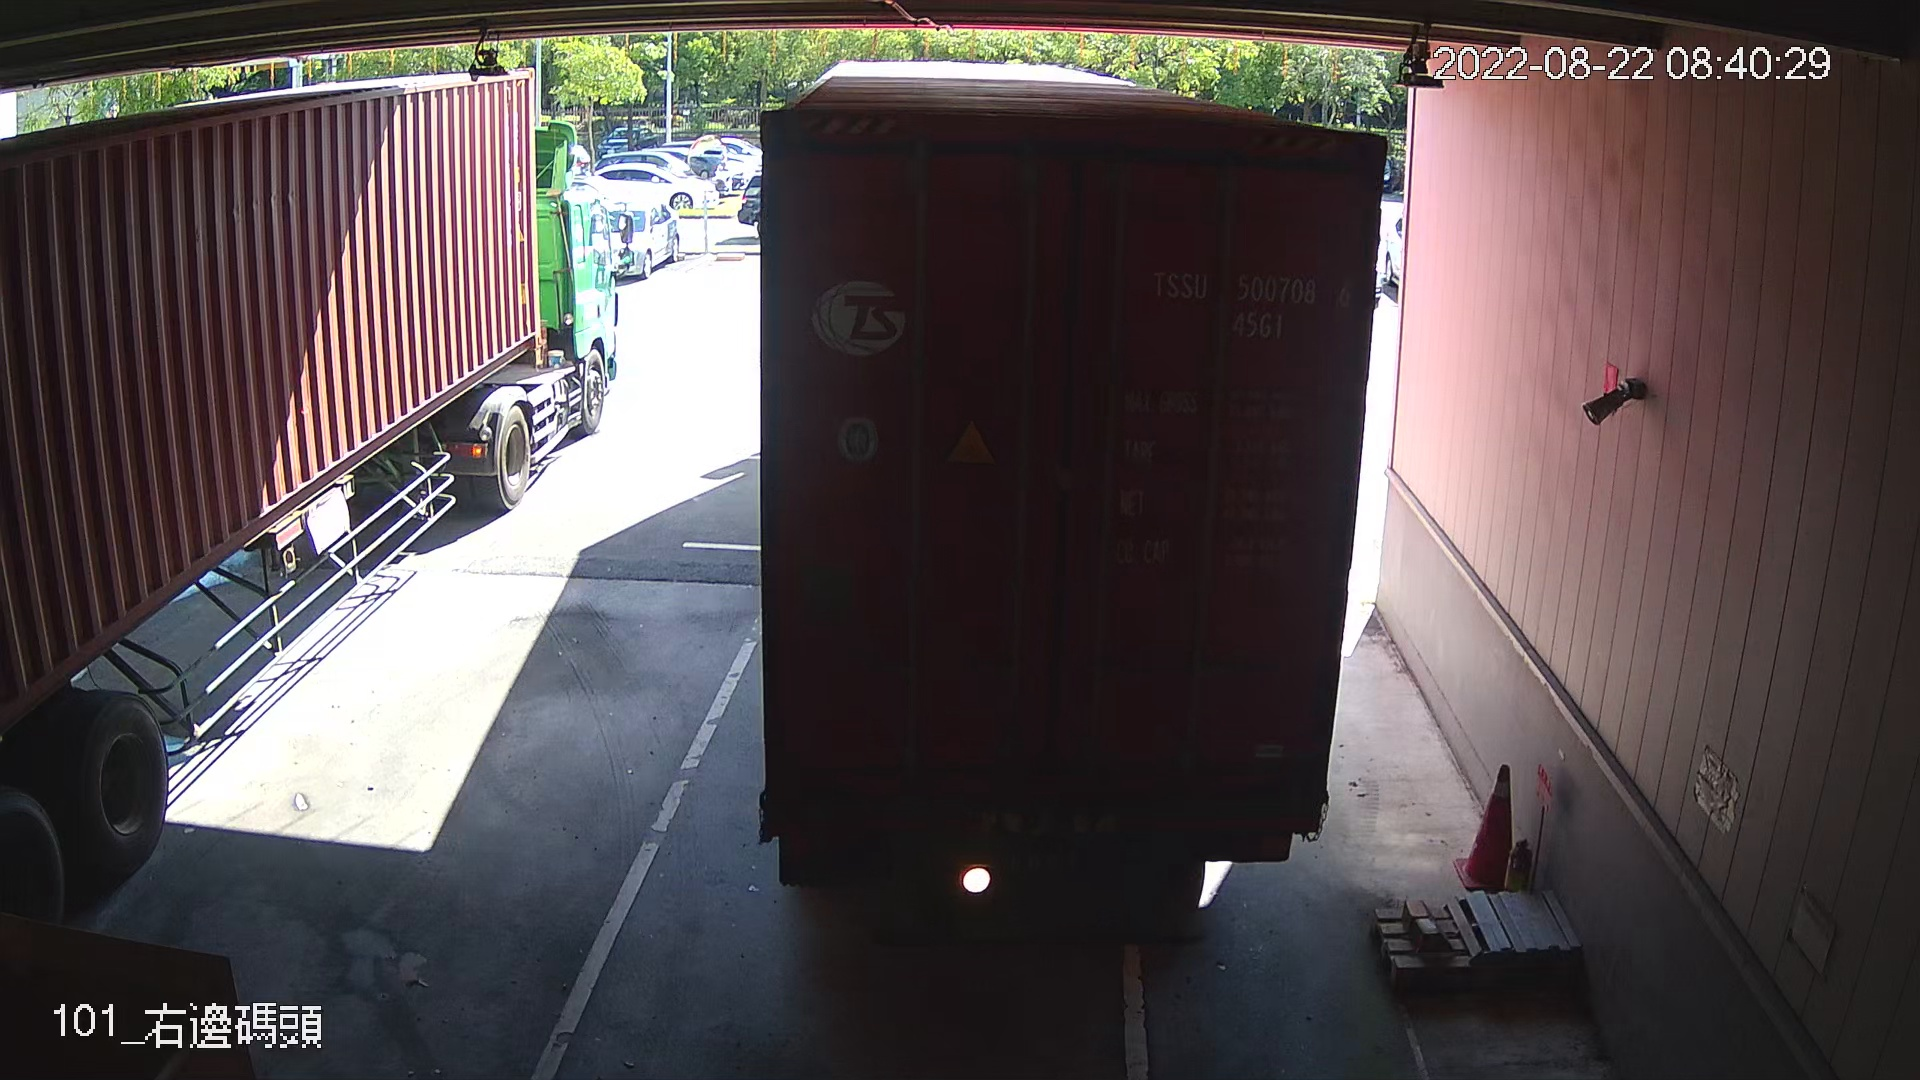container: (1142, 255, 1360, 349)
